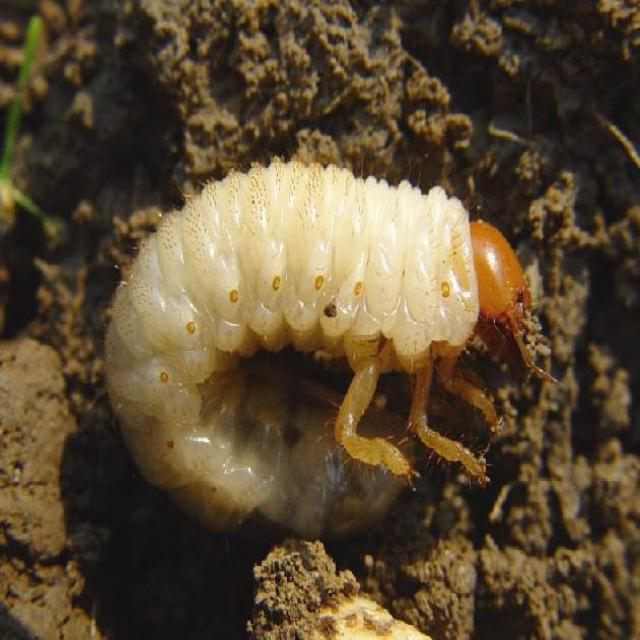Grub-Adult-: (68, 147, 545, 555)
